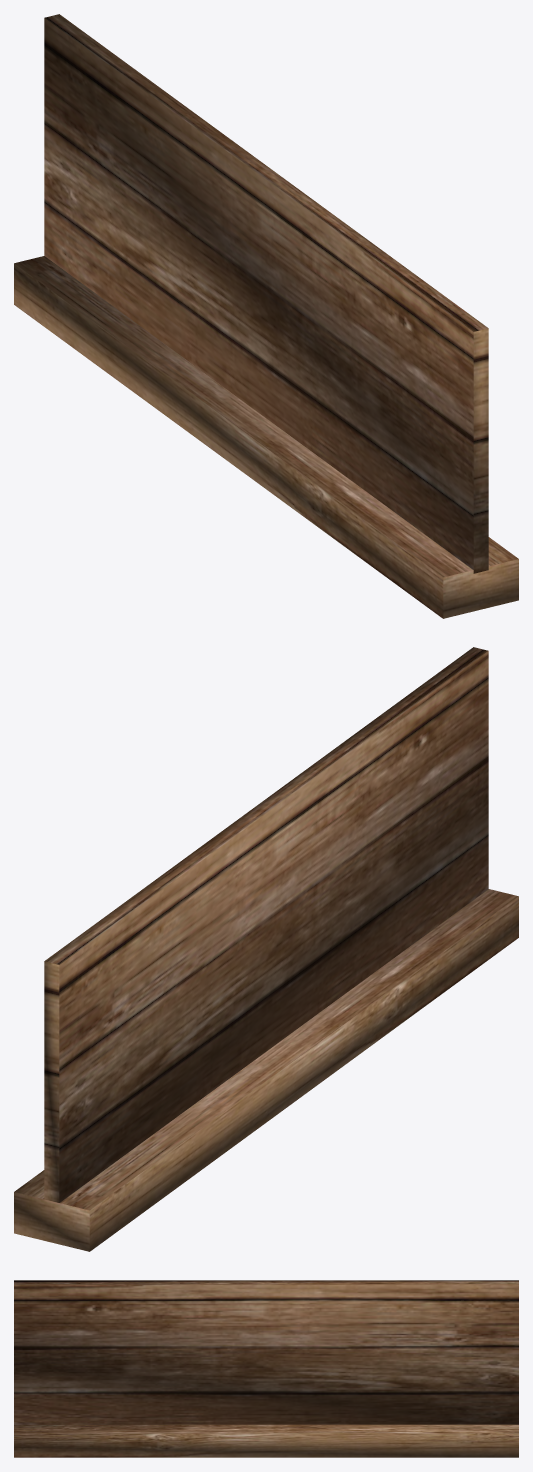
The model's file is table_part3.glb.
The picture shows the model from 3 angles, top to bottom: view 1: azimuth 30°, elevation 25°; view 2: azimuth 150°, elevation 25°; view 3: azimuth 270°, elevation 25°; orthographic projection. The views are drawn at different scales.
Visible parts, largest first — view 1: wood.jpg__; view 2: wood.jpg__; view 3: wood.jpg__.
Part boxes in pixels (x1,y1,x2,y2): wood.jpg__: (14, 14, 518, 618); wood.jpg__: (14, 647, 518, 1251); wood.jpg__: (14, 1280, 518, 1457).
Size of the model in its own units: 0.0929 by 0.3275 by 0.9116.
Materials: 1 (1 with a texture image).
